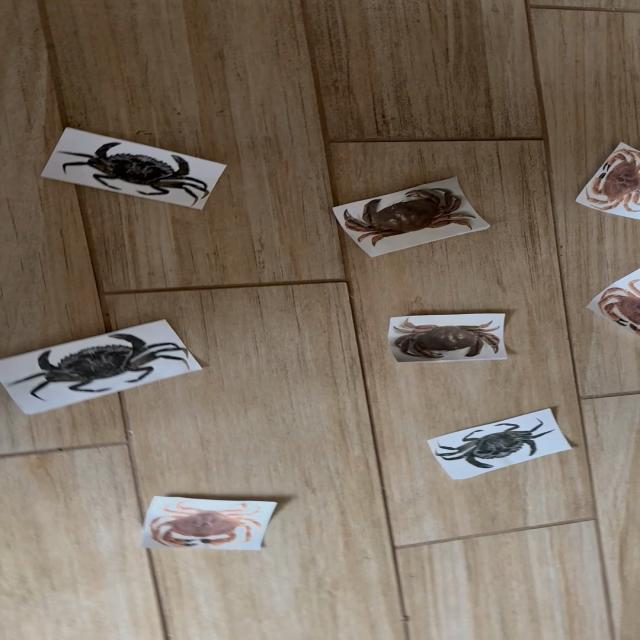egc: (11, 334, 190, 400), (62, 143, 209, 204), (460, 421, 543, 468)
